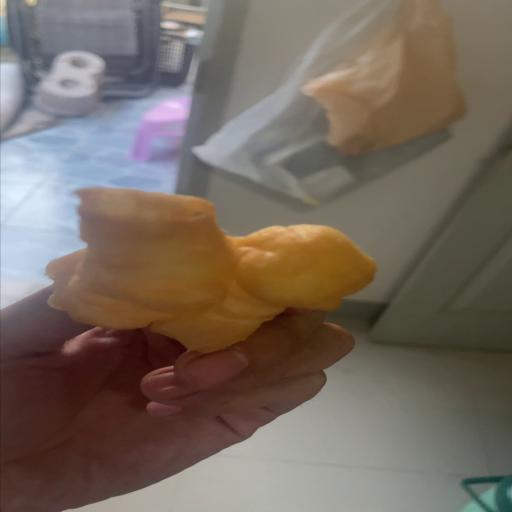street_golden_good: (46, 188, 376, 352)
